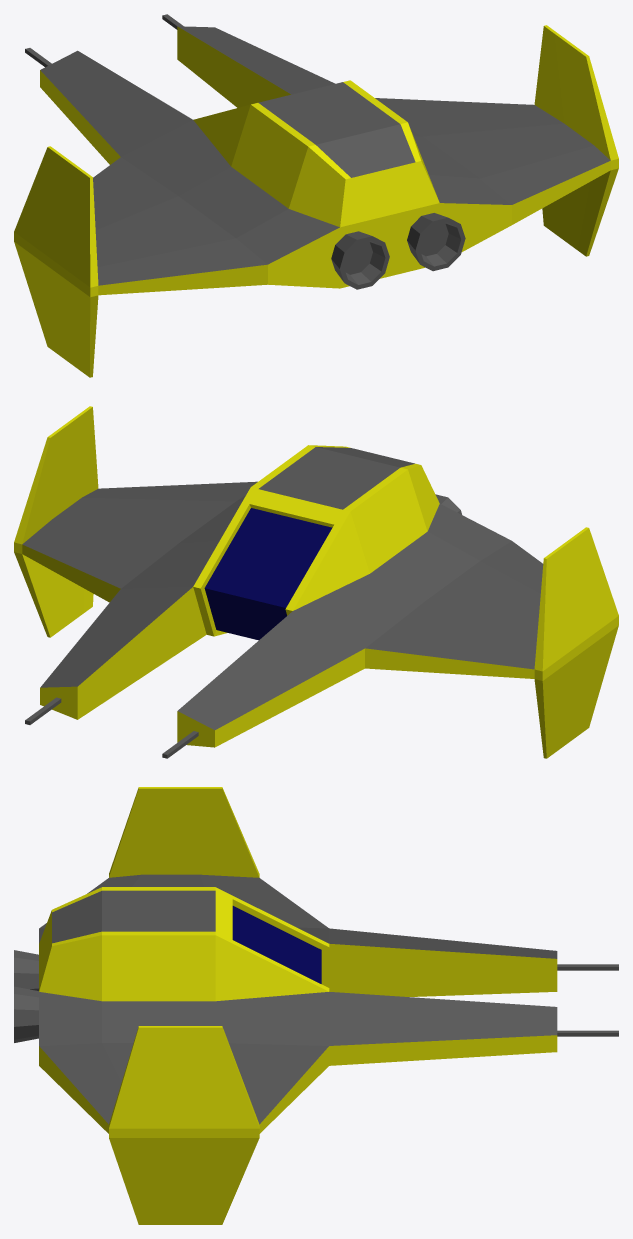
The model's file is SmallShip.fbx.
3 views of the same model, one above another, from view 1: azimuth 30°, elevation 25°; view 2: azimuth 150°, elevation 25°; view 3: azimuth 270°, elevation 25° (orthographic).
Visible parts, largest first — view 1: SmallShip; view 2: SmallShip; view 3: SmallShip.
Boxes of the visible parts, bbox=[...] form: SmallShip: bbox=[14, 14, 618, 377]; SmallShip: bbox=[14, 406, 618, 758]; SmallShip: bbox=[14, 787, 618, 1224].
Size of the model in its own units: 265 by 95.77 by 266.
